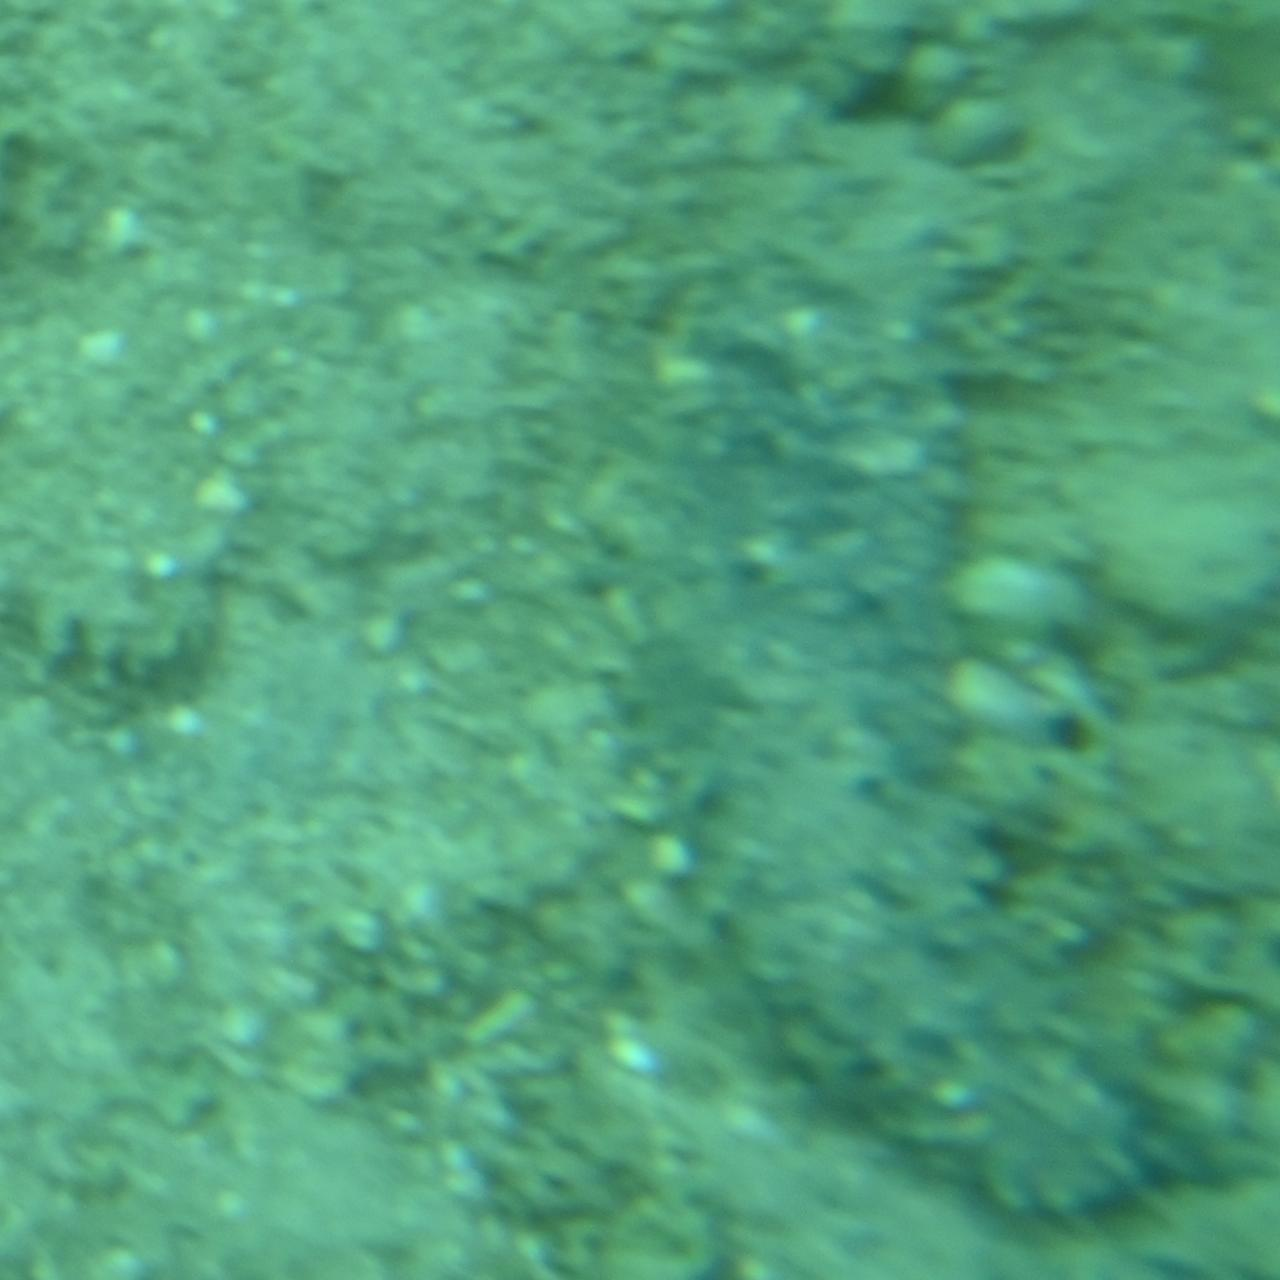Holothuria tubulosa: (561, 27, 1213, 1253)
